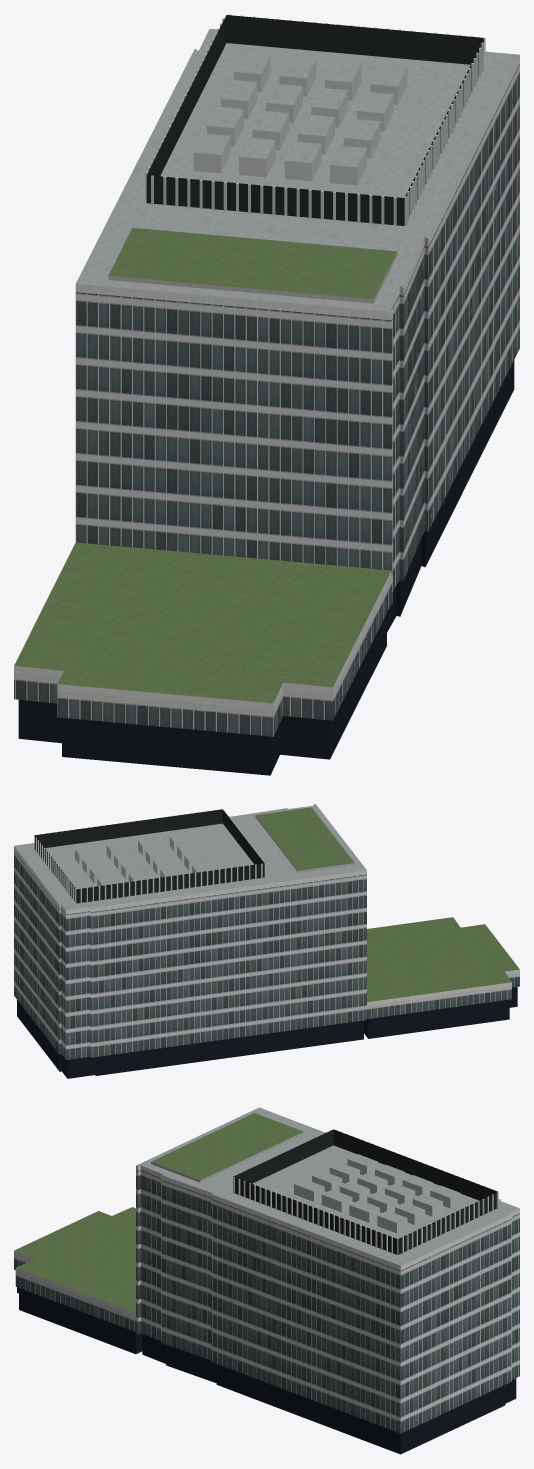
3 views of the same model, one above another, from view 1: azimuth 30°, elevation 25°; view 2: azimuth 150°, elevation 25°; view 3: azimuth 270°, elevation 25° (orthographic). The views are drawn at different scales.
Visible parts, largest first — view 1: 9f148463-846d-55e8-9ad7-34cd35cf1e94; view 2: 9f148463-846d-55e8-9ad7-34cd35cf1e94; view 3: 9f148463-846d-55e8-9ad7-34cd35cf1e94.
Boxes of the visible parts, box(x1,y1,x2,y2) form: 9f148463-846d-55e8-9ad7-34cd35cf1e94: box(14, 14, 519, 775); 9f148463-846d-55e8-9ad7-34cd35cf1e94: box(14, 804, 519, 1078); 9f148463-846d-55e8-9ad7-34cd35cf1e94: box(14, 1107, 519, 1454).
Bounding box in the file's own units: 110 × 51.39 × 114.
8 materials, 5 textured.
